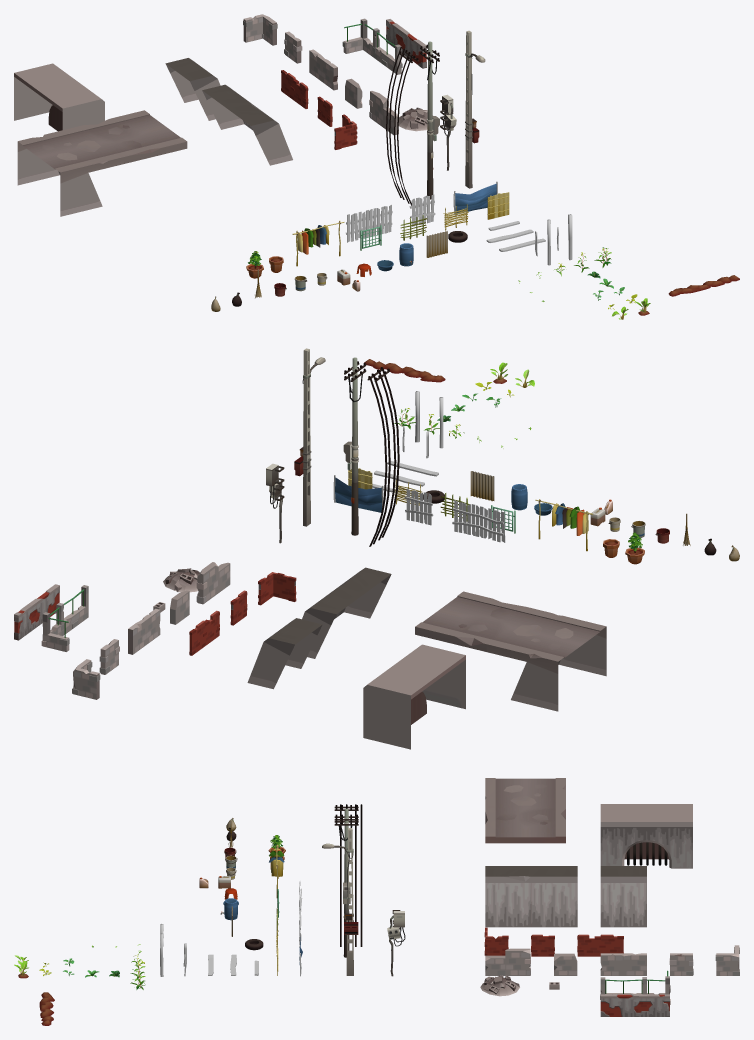
File: RAC_Asset_01.fbx
The picture shows the model from 3 angles, top to bottom: view 1: azimuth 30°, elevation 25°; view 2: azimuth 150°, elevation 25°; view 3: azimuth 270°, elevation 25°; orthographic projection. The views are drawn at different scales.
Visible parts, largest first — view 1: SM_Bridge_001, SM_Bridge_004, SM_CanalBorder_001, SM_Bridge_002, SM_CanalBorder_002, SM_EletricPole, SM_CABLES, SM_Barrière_005, SM_Bridge_003, SM_ElectricPole_001, SM_GreyWall_005, SM_Barrière_007 (+12 smaller); view 2: SM_Bridge_001, SM_Bridge_004, SM_CanalBorder_001, SM_CanalBorder_002, SM_Bridge_002, SM_CABLES, SM_EletricPole, SM_Barrière_005, SM_Bridge_003, SM_ElectricPole_001, SM_GreyWall_001, SM_Barrière_007 (+11 smaller); view 3: SM_CanalBorder_001, SM_Bridge_004, SM_CanalBorder_002, SM_Bridge_001, SM_Bridge_002, SM_Bridge_003, SM_GreyWall_001, SM_DamagedWall_004, SM_DamagedWall_015, SM_BrickWall_002, SM_CABLES, SM_EletricPole (+9 smaller).
Boxes of the visible parts, left/top/right/bottom form: SM_Bridge_001: left=17, top=126, right=123, bottom=216; SM_Bridge_004: left=14, top=63, right=104, bottom=131; SM_CanalBorder_001: left=202, top=84, right=292, bottom=165; SM_Bridge_002: left=81, top=115, right=166, bottom=163; SM_CanalBorder_002: left=165, top=58, right=220, bottom=120; SM_EletricPole: left=420, top=41, right=439, bottom=199; SM_CABLES: left=386, top=47, right=412, bottom=205; SM_Barrière_005: left=346, top=204, right=392, bottom=242; SM_Bridge_003: left=124, top=110, right=187, bottom=153; SM_ElectricPole_001: left=465, top=30, right=472, bottom=188; SM_GreyWall_005: left=243, top=14, right=277, bottom=45; SM_Barrière_007: left=453, top=181, right=497, bottom=215; SM_Bridge_001: left=486, top=609, right=606, bottom=711; SM_Bridge_004: left=363, top=644, right=465, bottom=749; SM_CanalBorder_001: left=302, top=567, right=391, bottom=658; SM_CanalBorder_002: left=247, top=618, right=322, bottom=689; SM_Bridge_002: left=439, top=597, right=534, bottom=651; SM_CABLES: left=369, top=367, right=399, bottom=546; SM_EletricPole: left=343, top=357, right=366, bottom=535; SM_Barrière_005: left=452, top=500, right=505, bottom=542; SM_Bridge_003: left=415, top=591, right=486, bottom=640; SM_ElectricPole_001: left=303, top=348, right=310, bottom=526; SM_GreyWall_001: left=196, top=562, right=230, bottom=604; SM_Barrière_007: left=333, top=475, right=383, bottom=512; SM_CanalBorder_001: left=485, top=866, right=577, bottom=927; SM_Bridge_004: left=600, top=804, right=692, bottom=868; SM_CanalBorder_002: left=600, top=866, right=646, bottom=927; SM_Bridge_001: left=485, top=778, right=565, bottom=807; SM_Bridge_002: left=485, top=807, right=565, bottom=827; SM_Bridge_003: left=485, top=827, right=565, bottom=843; SM_GreyWall_001: left=485, top=948, right=530, bottom=975; SM_DamagedWall_004: left=600, top=994, right=646, bottom=1016; SM_DamagedWall_015: left=600, top=953, right=646, bottom=975; SM_BrickWall_002: left=577, top=934, right=623, bottom=956; SM_CABLES: left=340, top=804, right=362, bottom=946; SM_EletricPole: left=334, top=808, right=358, bottom=957.
Size of the model in its own units: 21.09 by 7.17 by 31.43.
